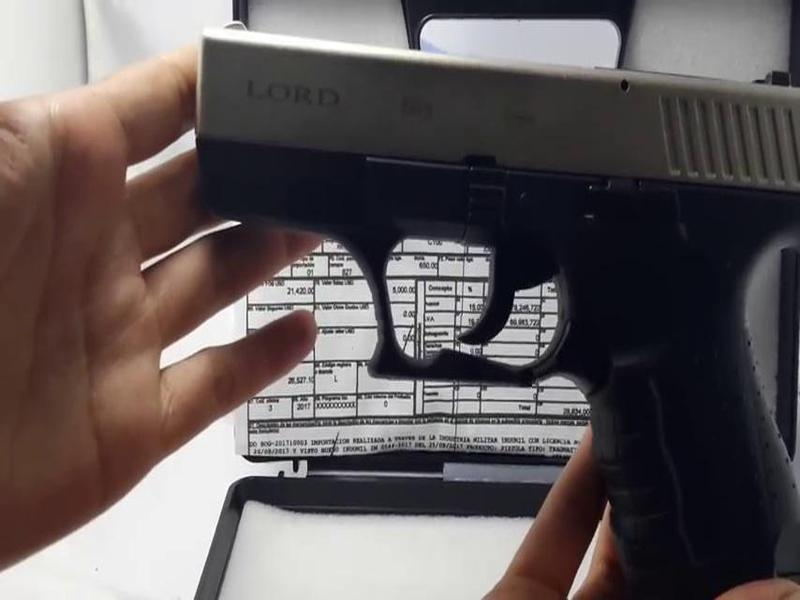Pistola: (166, 14, 800, 548)
